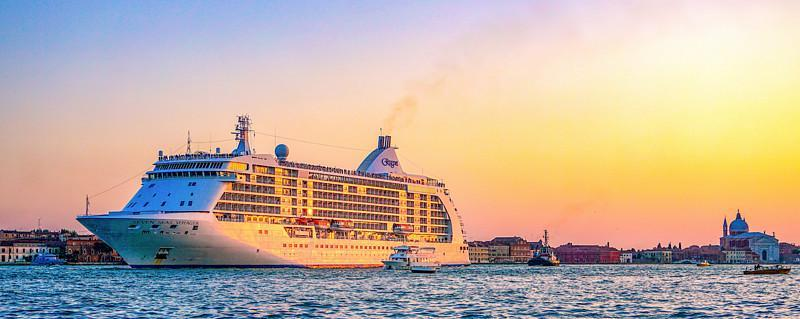Ship: (81, 112, 470, 276)
